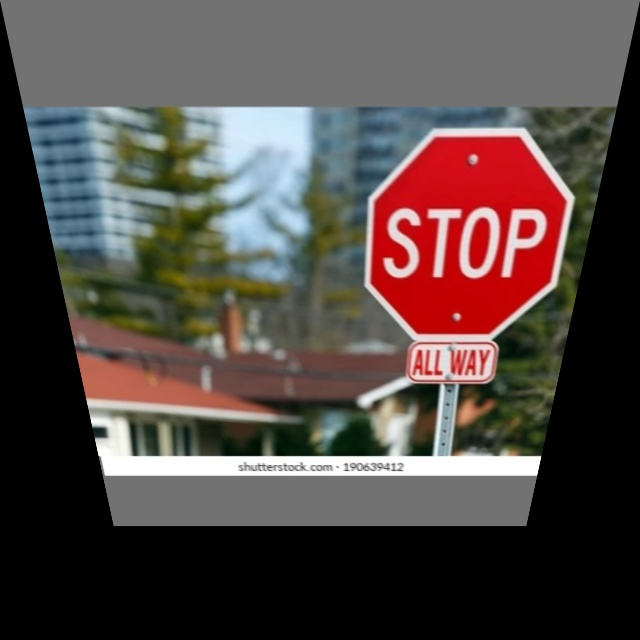Stop: (363, 127, 588, 339)
